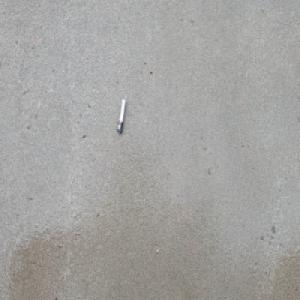Battery: (116, 98, 126, 134)
